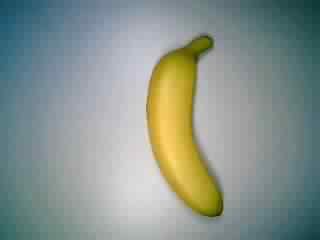banana: (143, 33, 225, 219)
